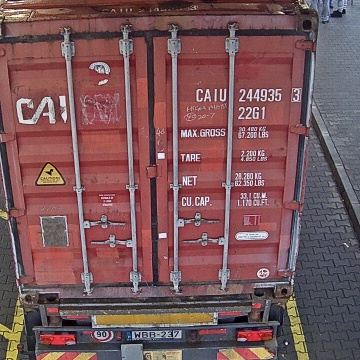serial_id: (195, 88, 300, 102)
